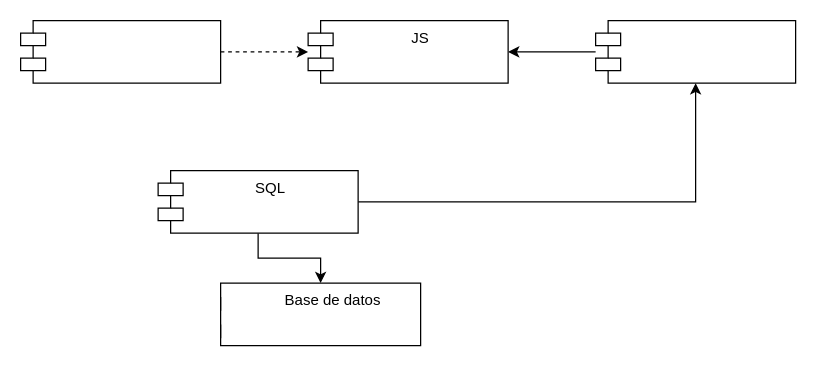
The diagram is 816 pixels wide and 366 high, and some of its shapes have lost their labels. The centre of each missing label's shape, as x and y in pixels:
Navegador Web: point (120, 51)
Sistema Web: point (695, 51)
